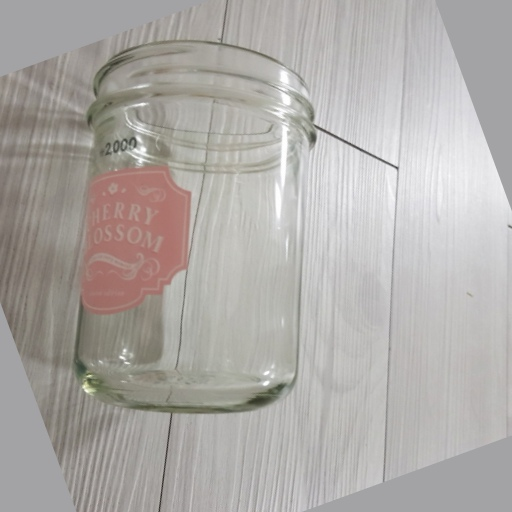Glass_5: (72, 44, 319, 416)
